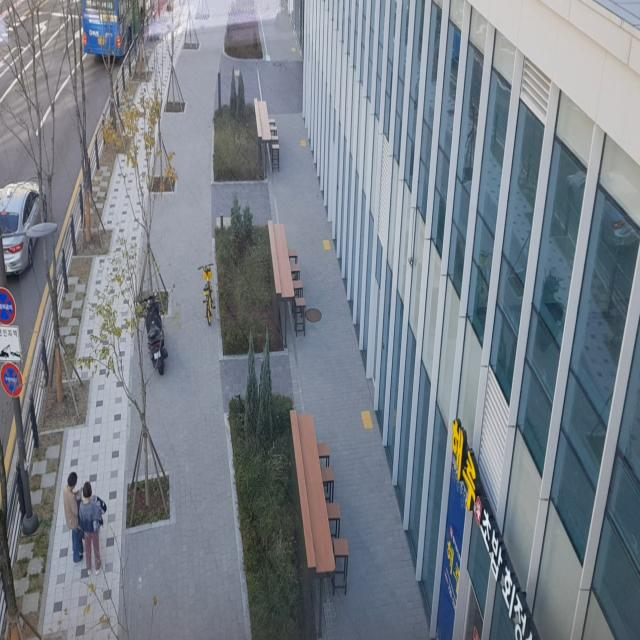Bus: (71, 0, 175, 65)
Car: (0, 136, 62, 280)
